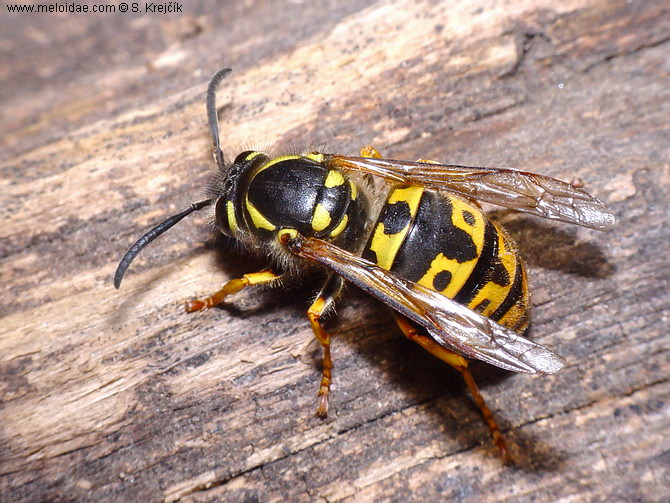chax: (105, 53, 639, 474)
